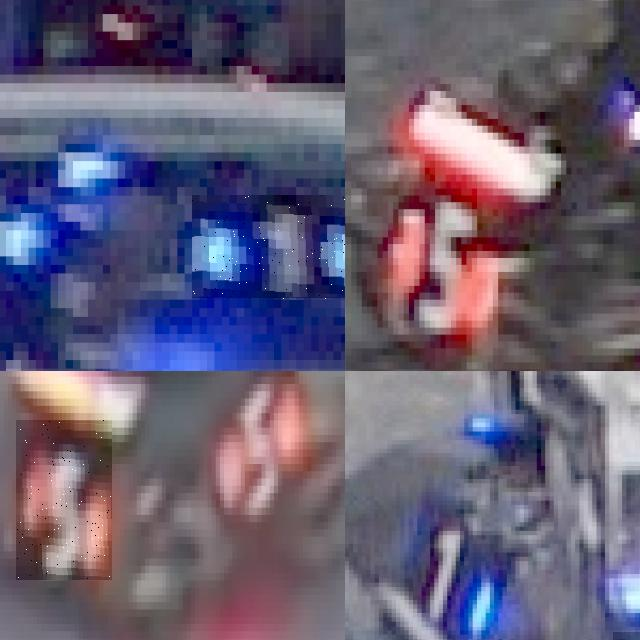B1: (192, 195, 345, 299), (404, 511, 519, 640)
R5: (388, 188, 498, 342), (16, 420, 112, 580), (212, 391, 311, 515)
